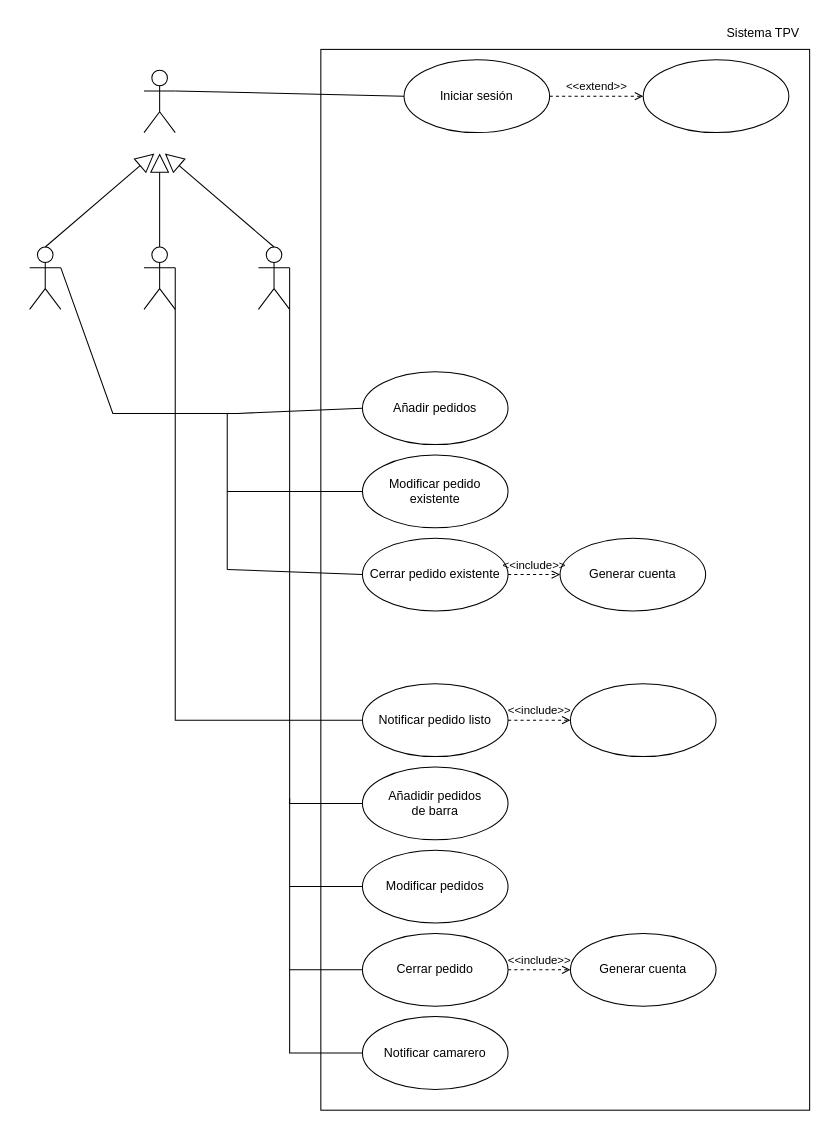
Some shapes in this 828 by 1128 pixel diagram are drawn without their labels. The centre of each missing label's shape, as x and y in pixels:
"Barman" belongs at (x=273, y=277).
"Camarero" belongs at (x=45, y=277).
"Cocinero" belongs at (x=159, y=277).
"Consultar pedidos pendientes" belongs at (x=715, y=96).
"Notificar al camarero" belongs at (x=642, y=720).
"Usuario" belongs at (x=159, y=101).
